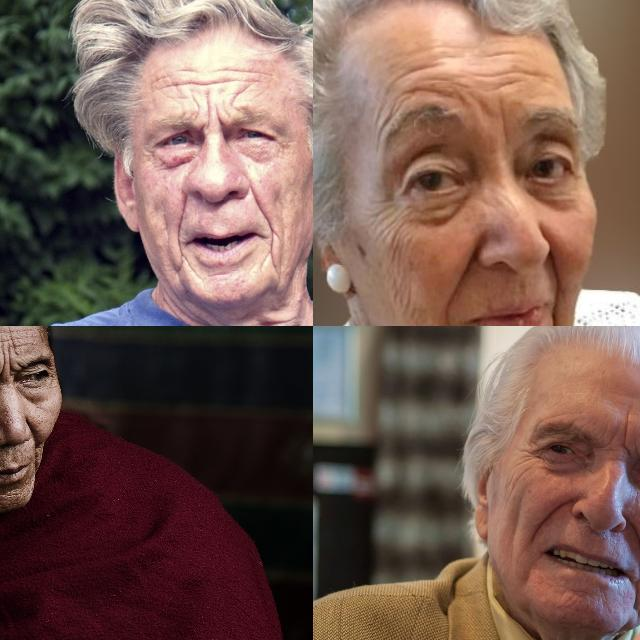crows_feet: (366, 194, 409, 238), (518, 440, 544, 468)
forehead: (383, 63, 462, 99), (486, 62, 562, 88), (158, 69, 192, 95), (538, 404, 578, 424), (242, 62, 272, 88), (198, 70, 230, 94), (0, 328, 23, 348)
frown_line: (491, 100, 515, 144), (198, 102, 226, 126), (0, 358, 20, 382), (618, 412, 634, 442), (620, 440, 636, 462)
gummy_smile: (447, 232, 481, 302), (539, 237, 567, 309), (531, 492, 573, 532), (171, 192, 195, 240), (245, 189, 273, 225), (24, 421, 44, 453), (628, 520, 640, 566)
masseter: (378, 252, 417, 316)
sad_smile: (262, 240, 286, 276), (172, 242, 194, 274), (544, 308, 567, 326), (628, 579, 640, 613), (436, 315, 462, 326)
